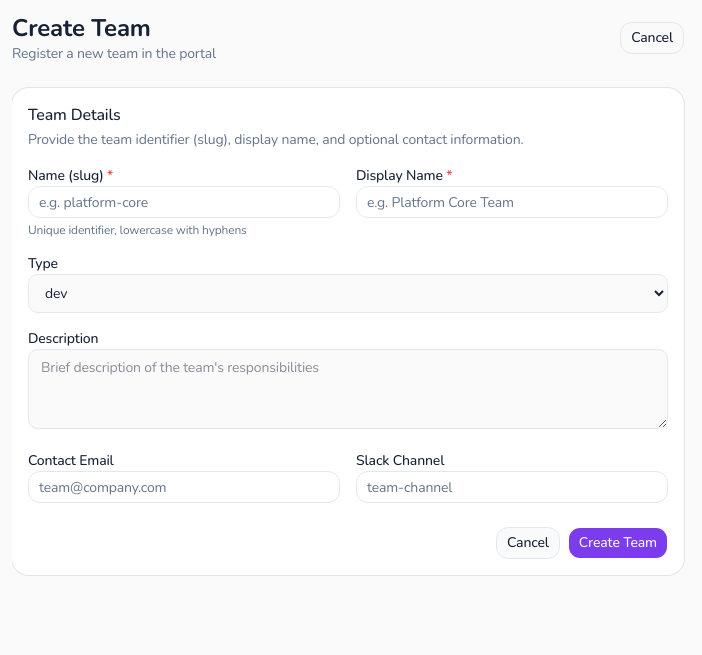
Test: NewTeamClient › shows API error message on failure
The width and height of the screenshot is (702, 655).
Type "platform-core" into the field labelled "Name (slug) *".
click(184, 202); type("platform-core")  # box x1=28 y1=186 x2=340 y2=218
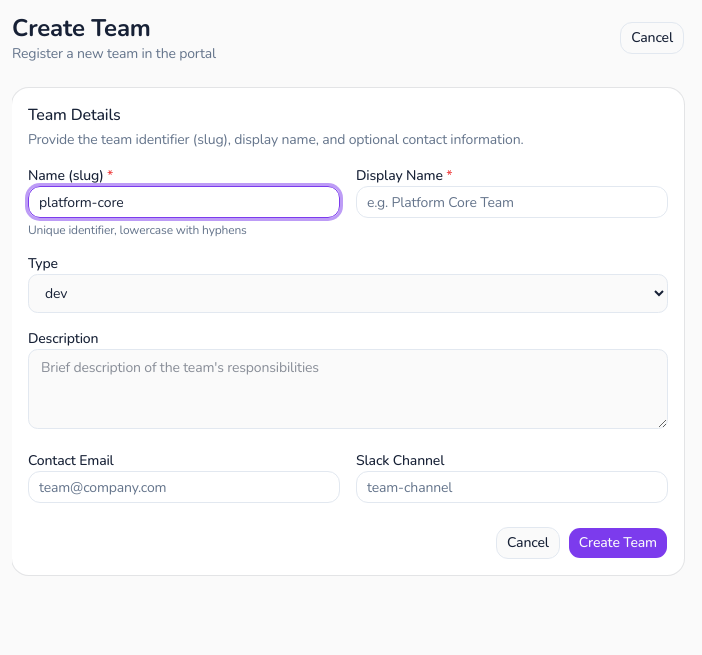
Type "Platform Core Team" into the field labelled "Display Name *".
click(512, 202); type("Platform Core Team")  # box x1=356 y1=186 x2=668 y2=218
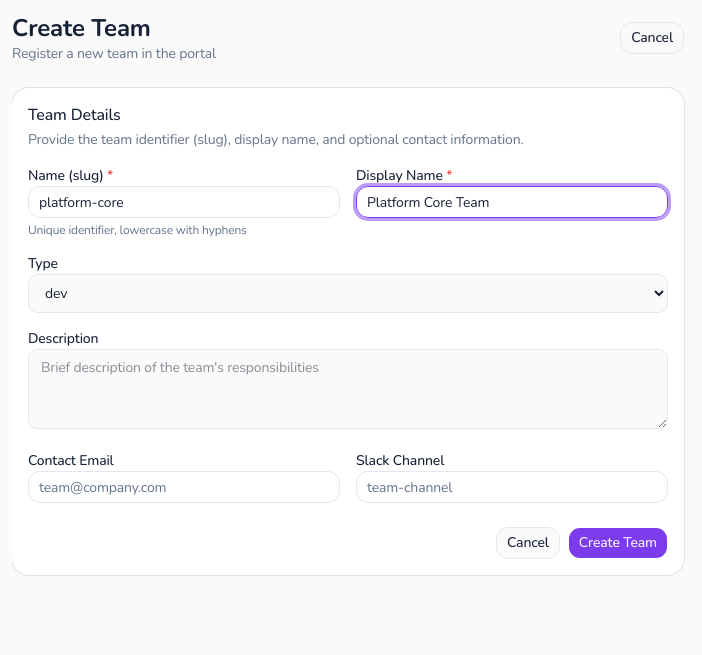
Click the button "Create Team".
click(618, 543)  # box x1=568 y1=527 x2=668 y2=559
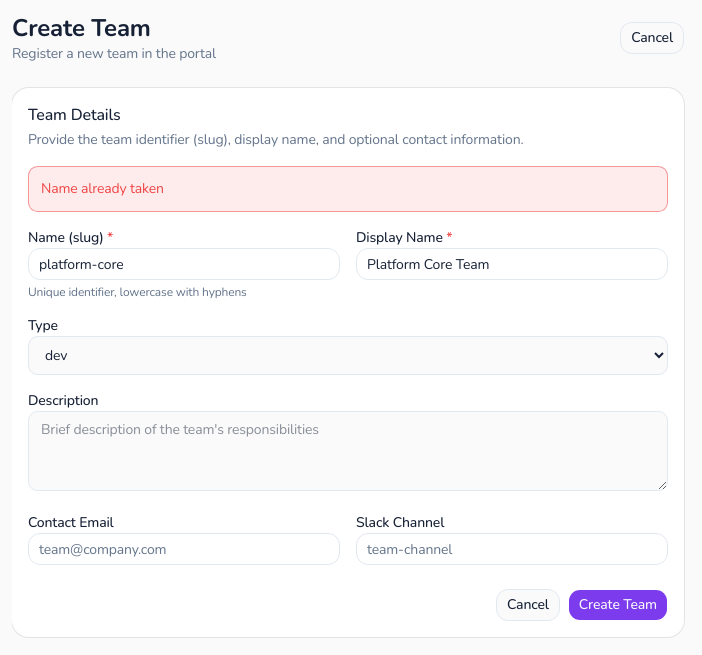
Now the text "Name already taken" is shown, box x1=28 y1=166 x2=668 y2=212
